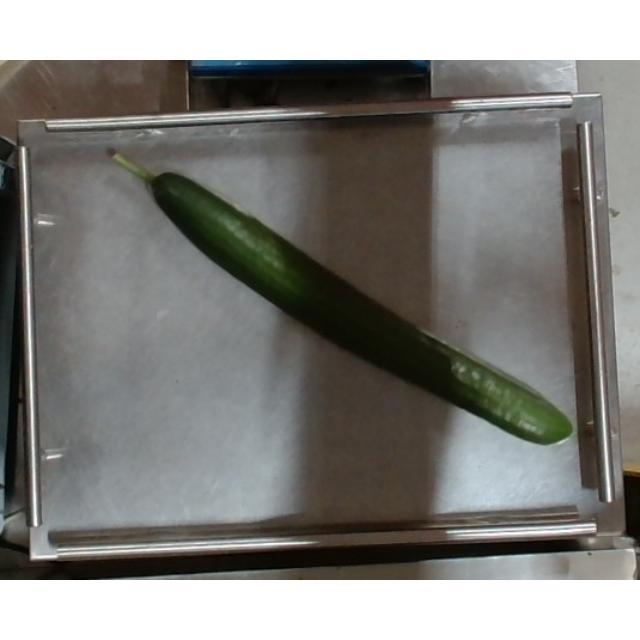cucumber: (104, 174, 570, 438)
